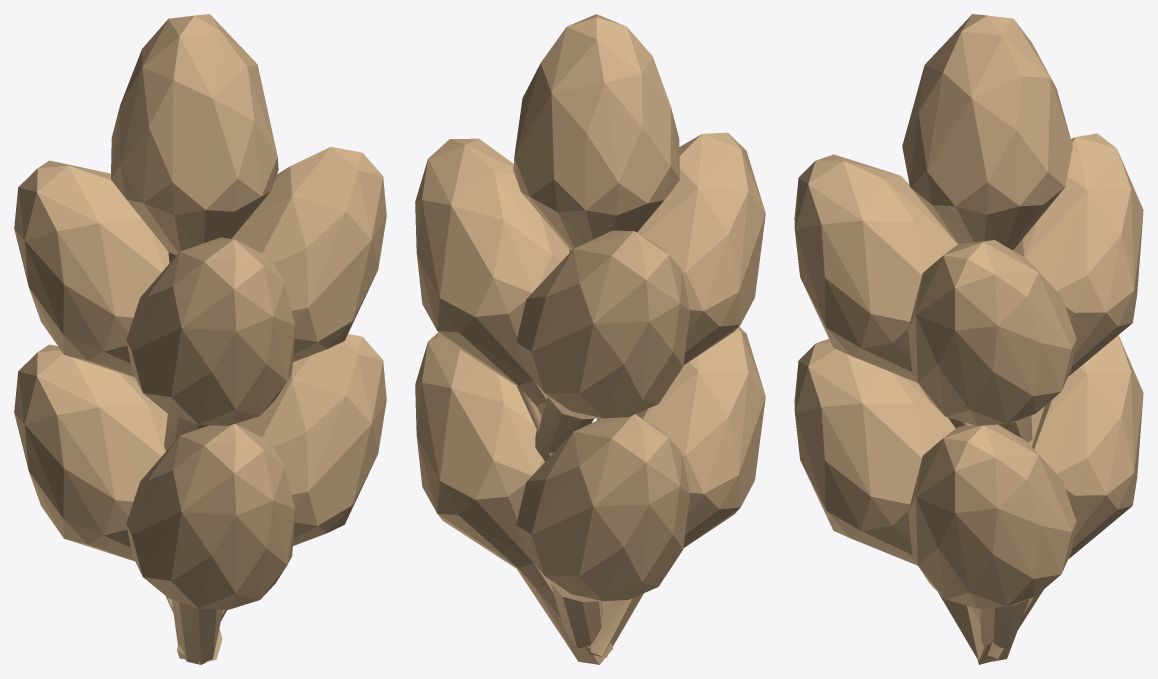
File: skillFlower7.glb
3 views of the same model, side by side, from view 1: azimuth 30°, elevation 25°; view 2: azimuth 150°, elevation 25°; view 3: azimuth 270°, elevation 25° (orthographic).
Visible parts, largest first — view 1: skilsFlower.006; view 2: skilsFlower.006; view 3: skilsFlower.006.
Boxes of the visible parts, <box> form: skilsFlower.006: <box>14,14,386,664</box>; skilsFlower.006: <box>415,14,765,664</box>; skilsFlower.006: <box>794,14,1143,664</box>.
Bounding box in the file's own units: 0.148 × 0.2999 × 0.1479.
Materials: 1 (1 with a texture image).
